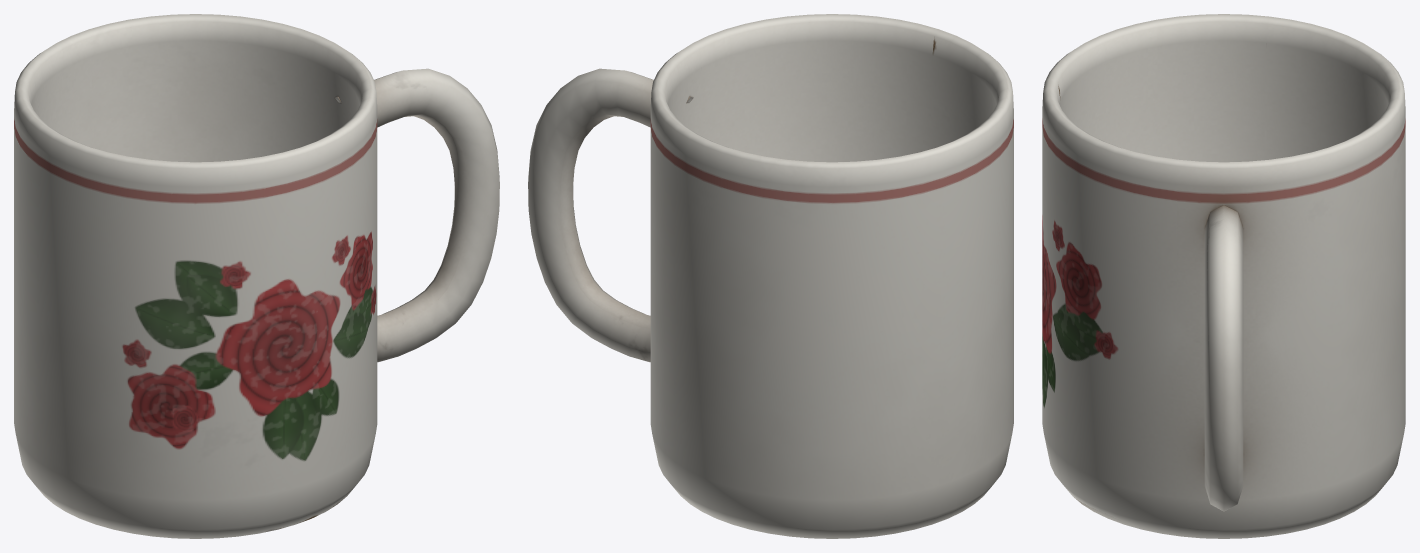
The model's file is Mug.fbx.
3 renders of one model, left to right at view 1: azimuth 30°, elevation 25°; view 2: azimuth 150°, elevation 25°; view 3: azimuth 270°, elevation 25°, orthographic.
Visible parts, largest first — view 1: Mug_Mesh; view 2: Mug_Mesh; view 3: Mug_Mesh.
Boxes of the visible parts, left/top/right/bottom form: Mug_Mesh: left=14, top=14, right=499, bottom=538; Mug_Mesh: left=528, top=14, right=1013, bottom=538; Mug_Mesh: left=1042, top=14, right=1405, bottom=538.
Size of the model in its own units: 0.1202 by 0.0955 by 0.082.
